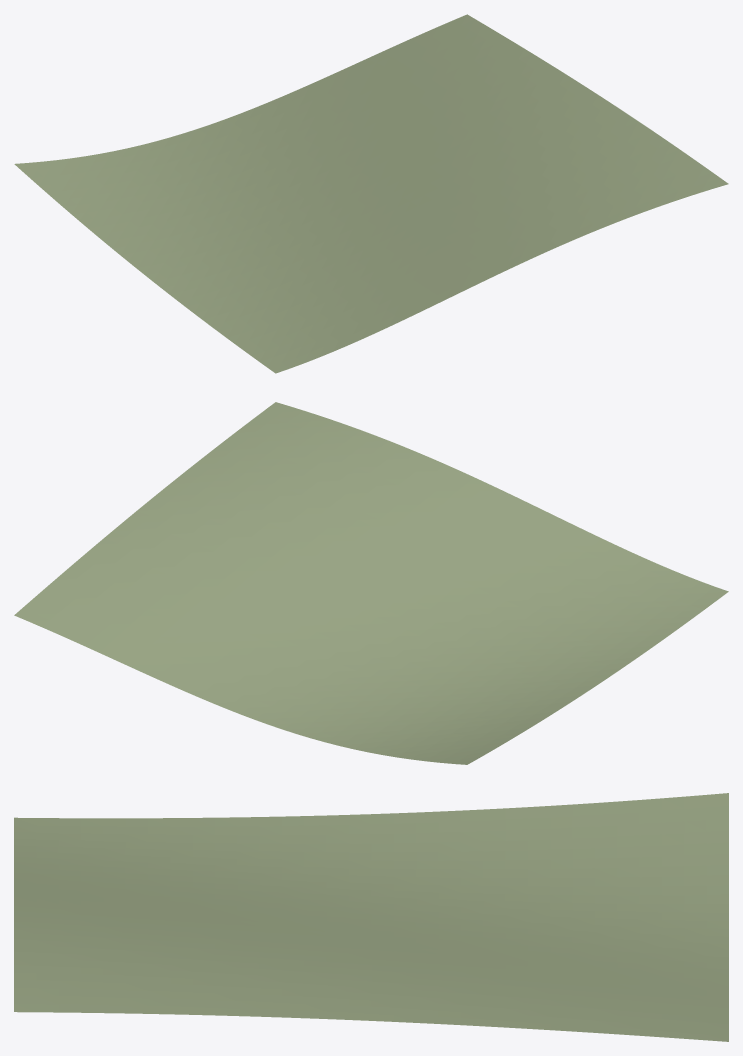
The model's file is expanse-5-29.glb.
The picture shows the model from 3 angles, top to bottom: view 1: azimuth 30°, elevation 25°; view 2: azimuth 150°, elevation 25°; view 3: azimuth 270°, elevation 25°; orthographic projection. The views are drawn at different scales.
Visible parts, largest first — view 1: expanse-5-29; view 2: expanse-5-29; view 3: expanse-5-29.
Part boxes in pixels (x1,y1,x2,y2): expanse-5-29: (14, 14, 728, 373); expanse-5-29: (14, 402, 728, 764); expanse-5-29: (14, 793, 728, 1041).
Size of the model in its own units: 256 by 42.81 by 256.
